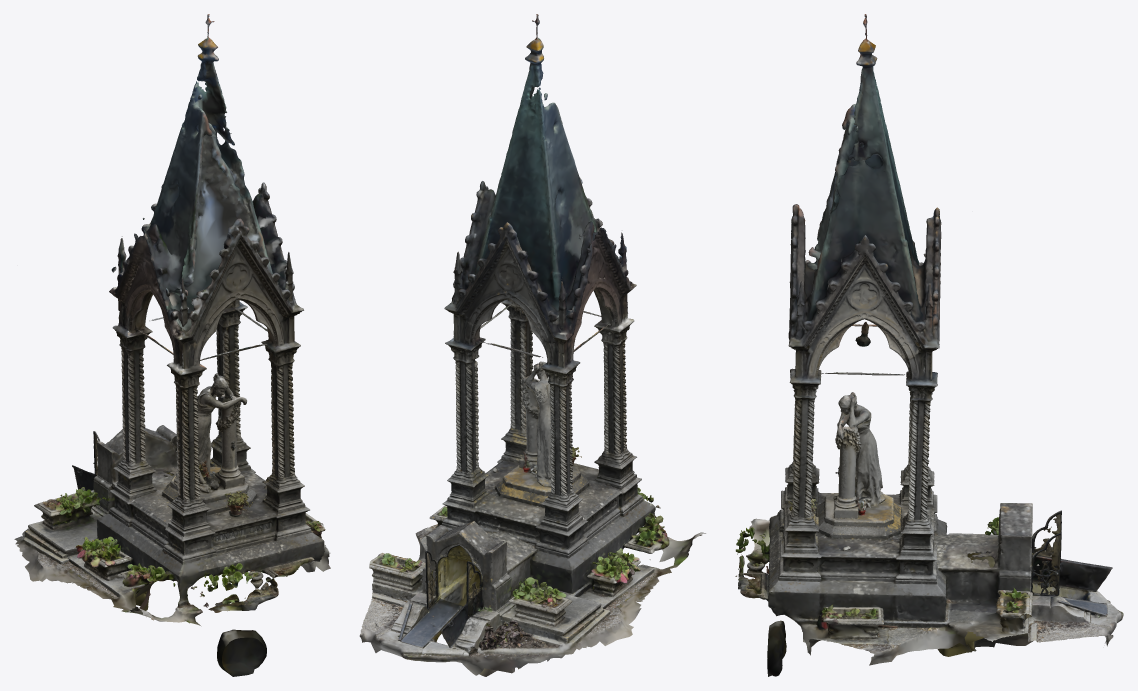
Rendered from bonfatti-casini-web.glb.
The picture shows the model from 3 angles, left to right: view 1: azimuth 30°, elevation 25°; view 2: azimuth 150°, elevation 25°; view 3: azimuth 270°, elevation 25°; orthographic projection. The views are drawn at different scales.
Parts seen in each view (by area): view 1: Bonfatti-Casini_WEB; view 2: Bonfatti-Casini_WEB; view 3: Bonfatti-Casini_WEB.
Boxes of the visible parts, x1,y1,x2,y2 form: Bonfatti-Casini_WEB: (14, 14, 330, 676); Bonfatti-Casini_WEB: (359, 14, 705, 676); Bonfatti-Casini_WEB: (735, 14, 1123, 676).
Bounding box in the file's own units: 3.76 × 8.78 × 4.65.
